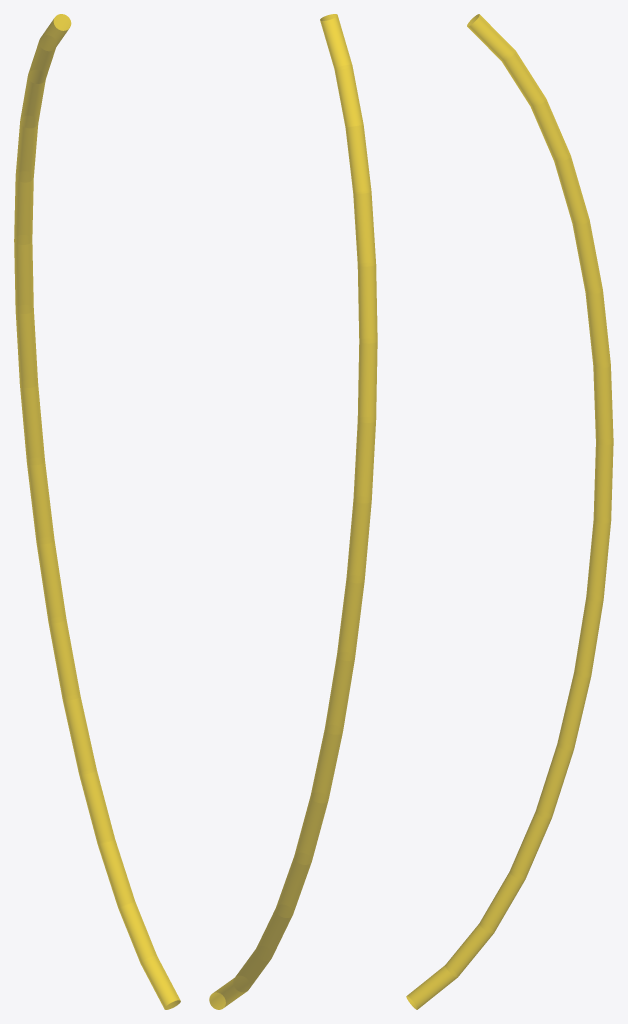
Rendered from Event_402970704_track_14.fbx.
3 views of the same model, side by side, from view 1: azimuth 30°, elevation 25°; view 2: azimuth 210°, elevation 25°; view 3: azimuth 270°, elevation 25° (orthographic). The views are drawn at different scales.
Parts seen in each view (by area): view 1: Model; view 2: Model; view 3: Model.
Boxes of the visible parts, x1,y1,x2,y2 form: Model: (14,14,180,1009); Model: (209,14,377,1009); Model: (406,14,613,1009).
Size of the model in its own units: 0.237 by 2.38 by 0.4668.
